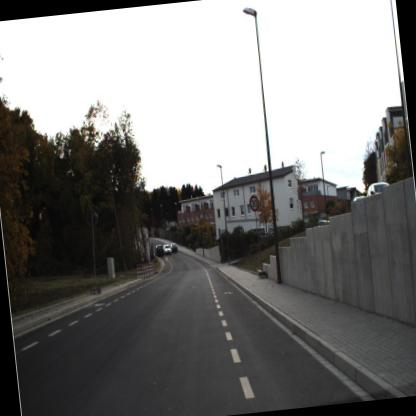prohibitory: (244, 190, 262, 217)
